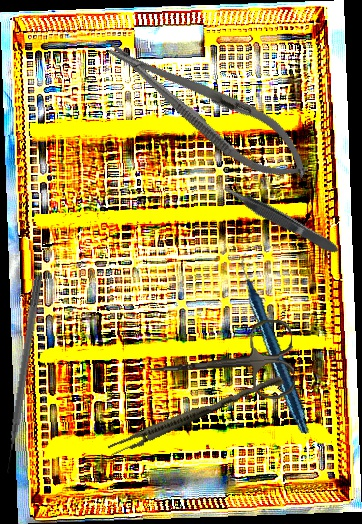Handpiece: (199, 252, 352, 435)
Iris Scissors: (146, 318, 297, 408)
Needle Holder: (95, 21, 322, 198)
Pusher: (0, 274, 44, 475)
Tissue Forceps: (106, 368, 285, 461), (218, 179, 342, 259)
